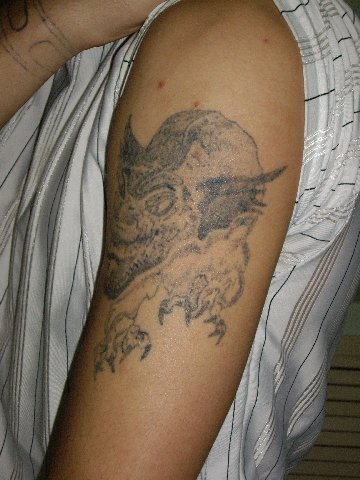tatu6_drakon: (87, 98, 281, 392)
